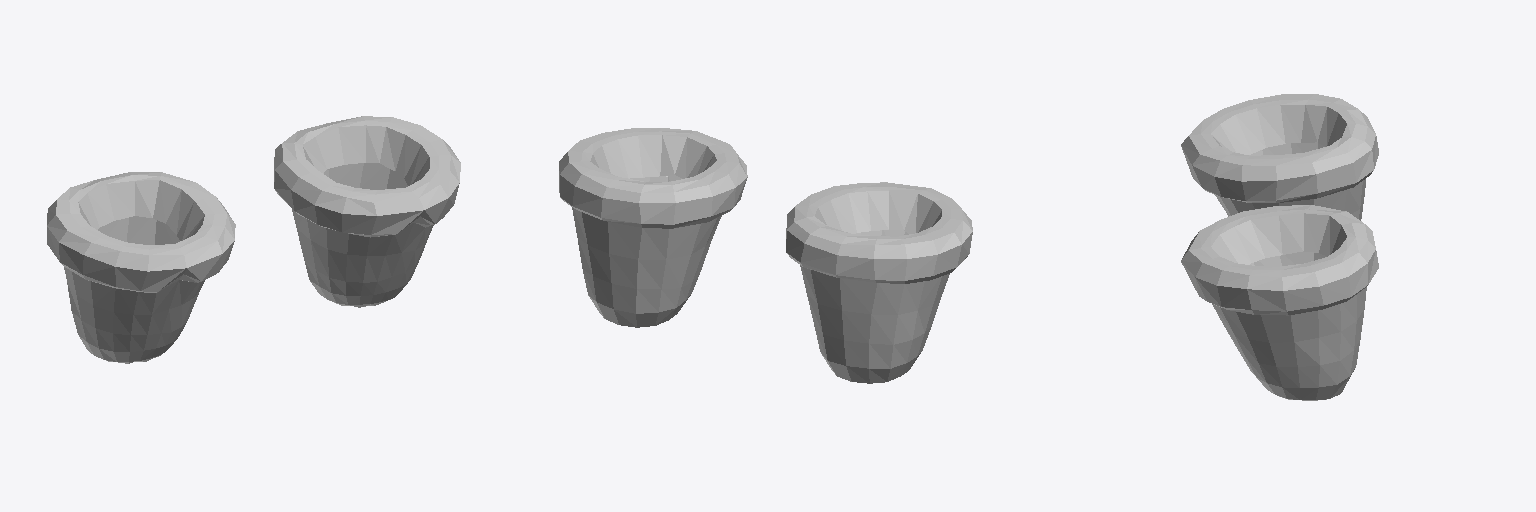
Rendered from shoes_low.obj.
The picture shows the model from 3 angles: view 1: azimuth 30°, elevation 25°; view 2: azimuth 150°, elevation 25°; view 3: azimuth 270°, elevation 25°; orthographic projection.
Parts seen in each view (by area): view 1: polySurface1; view 2: polySurface1; view 3: polySurface1.
Part boxes in pixels (left/top/right/bottom): polySurface1: left=47, top=116, right=460, bottom=363; polySurface1: left=559, top=128, right=972, bottom=383; polySurface1: left=1181, top=94, right=1378, bottom=400.
Bounding box in the file's own units: 28.12 × 10.47 × 12.36.